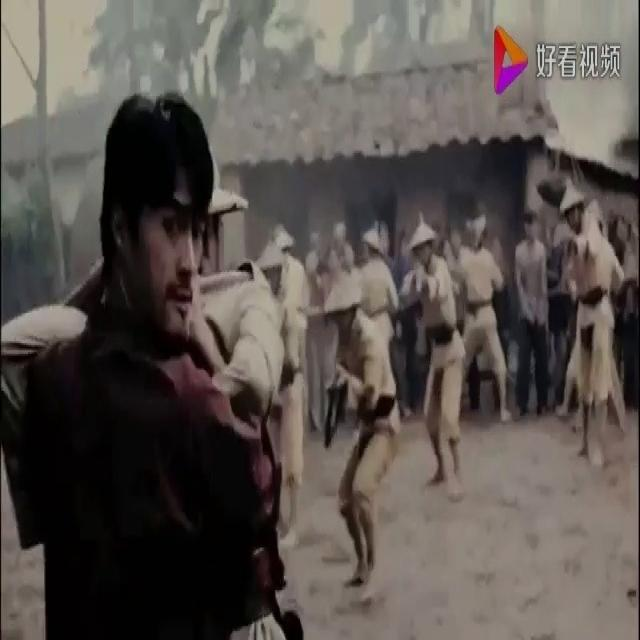fight: (1, 73, 312, 638)
non-fight: (510, 206, 551, 414)
